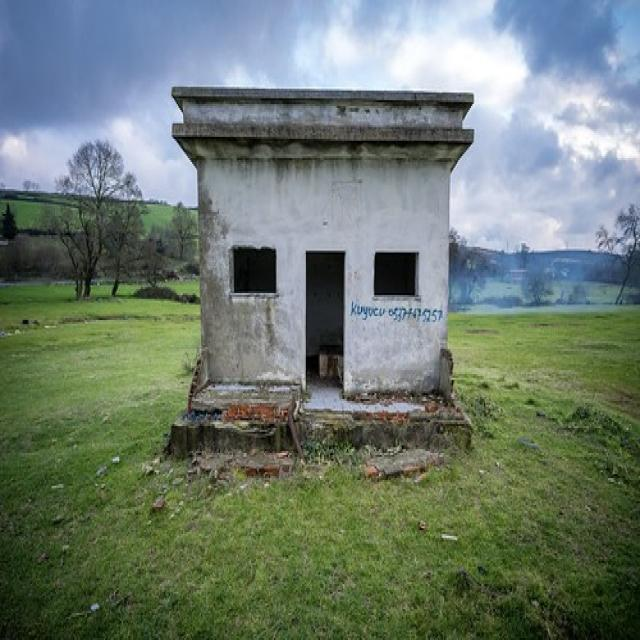building: (162, 79, 473, 468)
